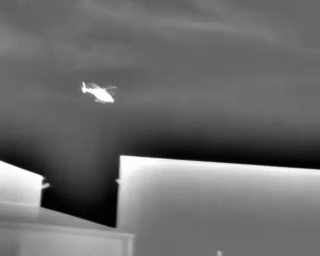HELICOPTER: (78, 76, 121, 111)
